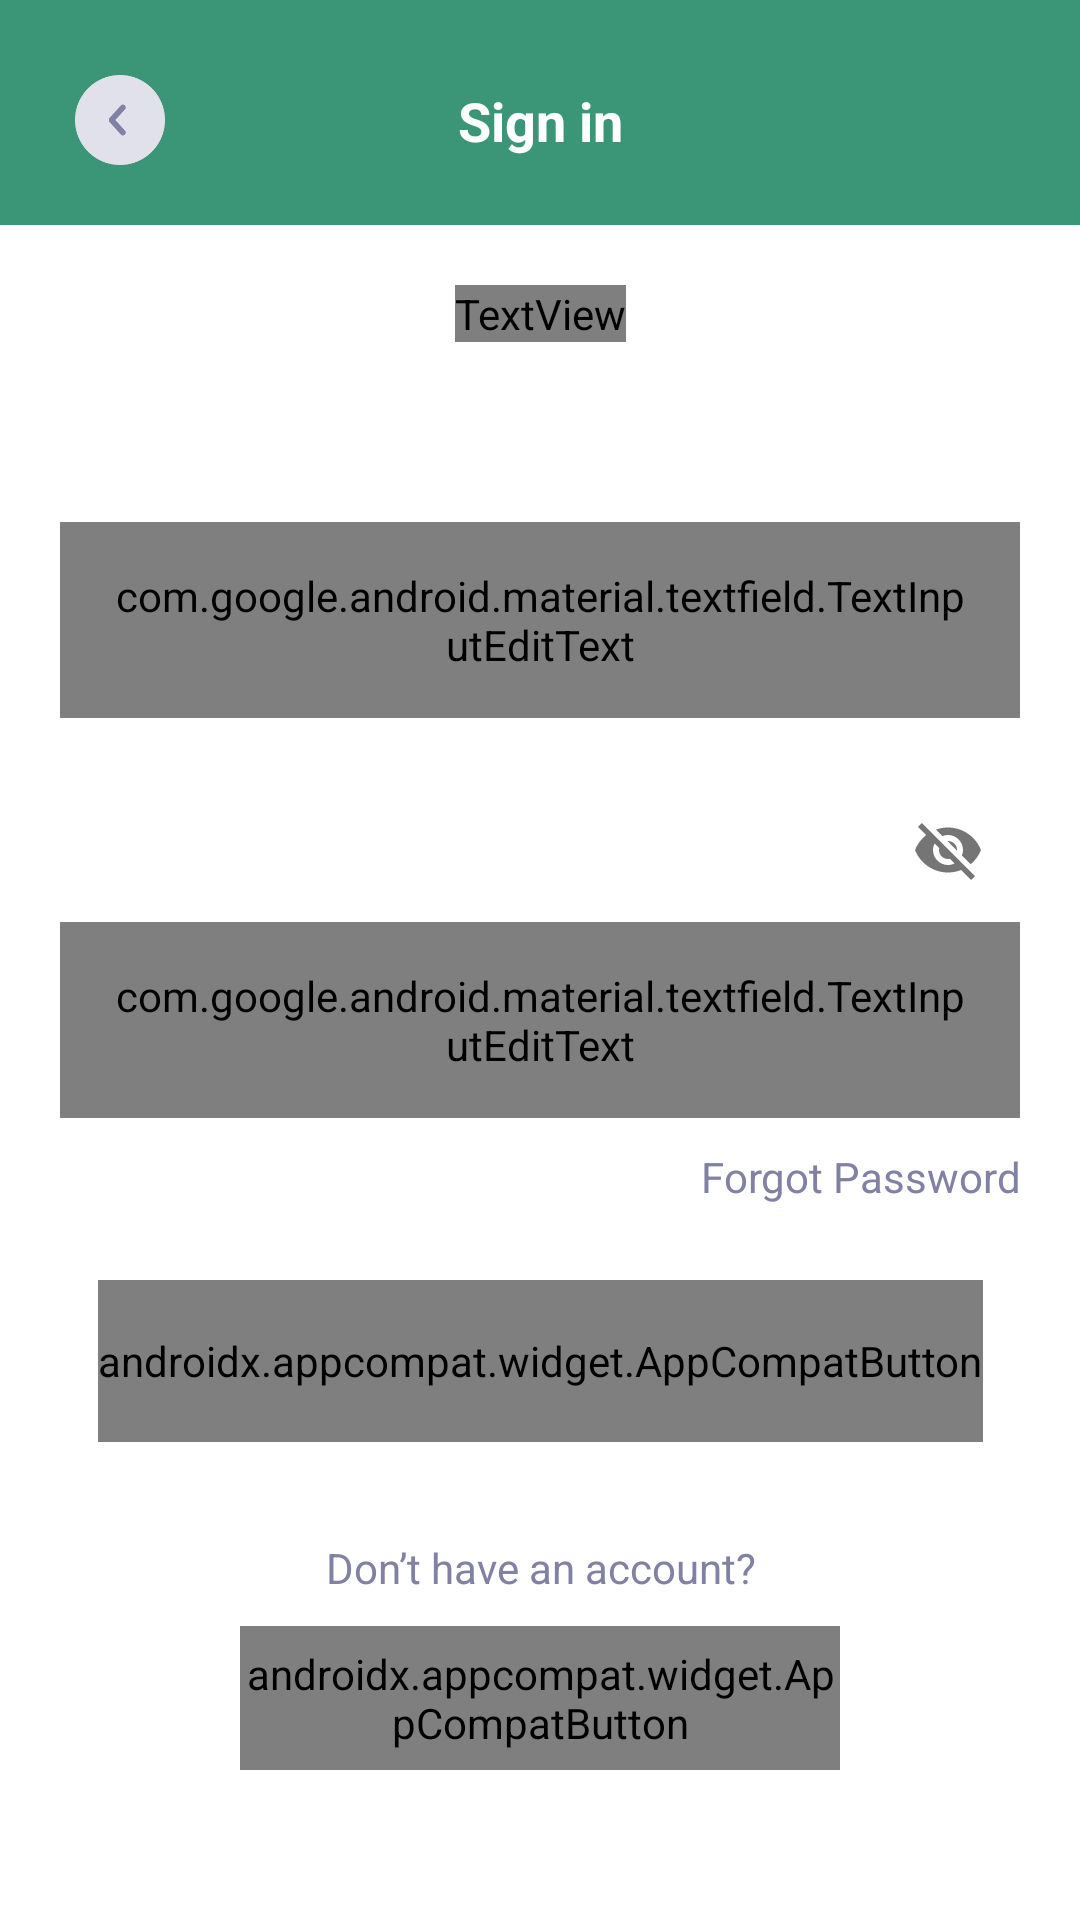

Named icons in this screenshot (1080 × 1920) and their centers, [x,y]:
back: [120,120]
